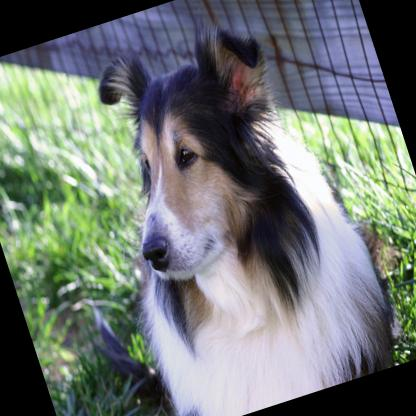Shetland_sheepdog: (62, 0, 405, 416)
